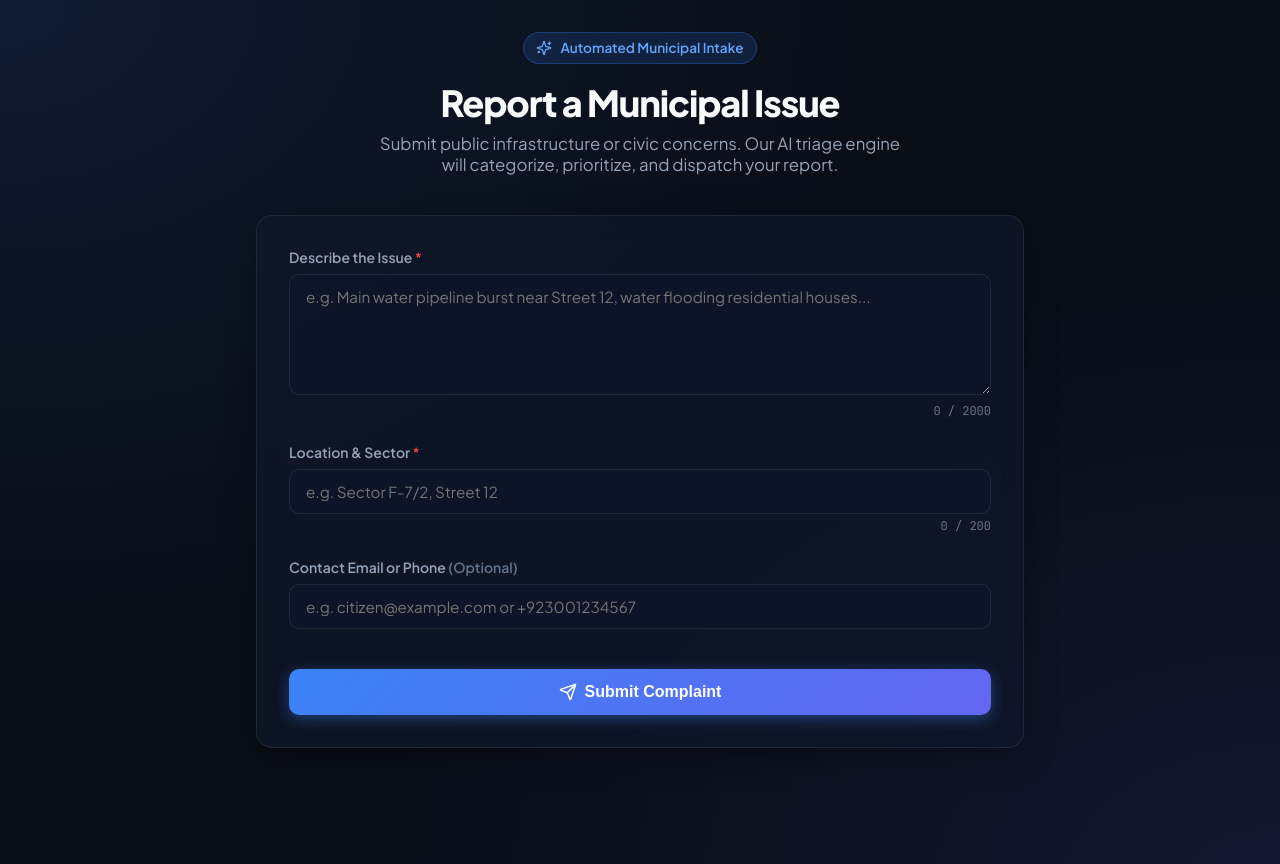
Test: SubmitPage Success & AI Result Presentation › renders triage result card with category, priority, summary, provider, and latency on 201 response
Replace the text in the text box labelled "Describe the Issue *" with "Main water pipeline burst near Street 12 flooding houses." at coordinates (640, 334), box [289,274,991,395]
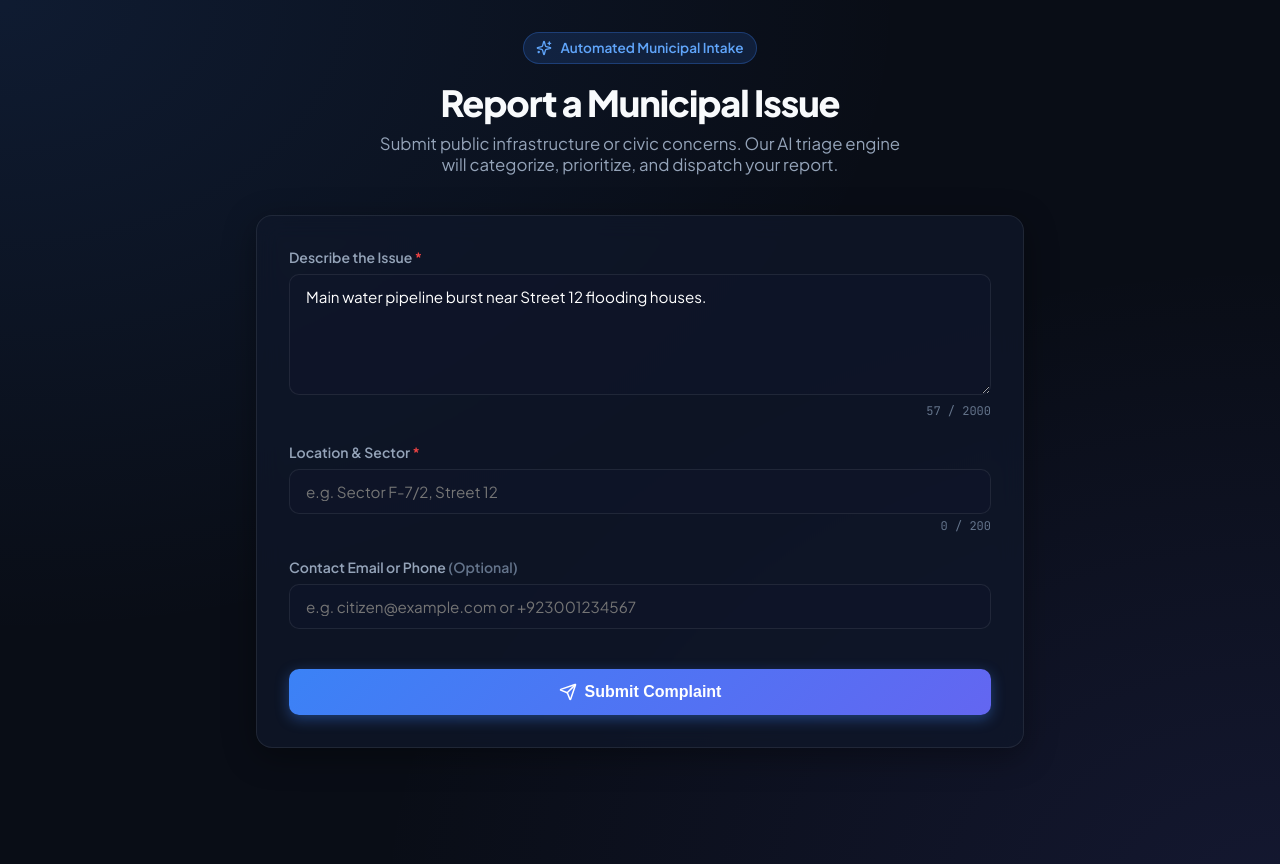
Type "Sector F-7/2" into the field labelled "Location & Sector *" at coordinates (640, 491), box [289,469,991,514]
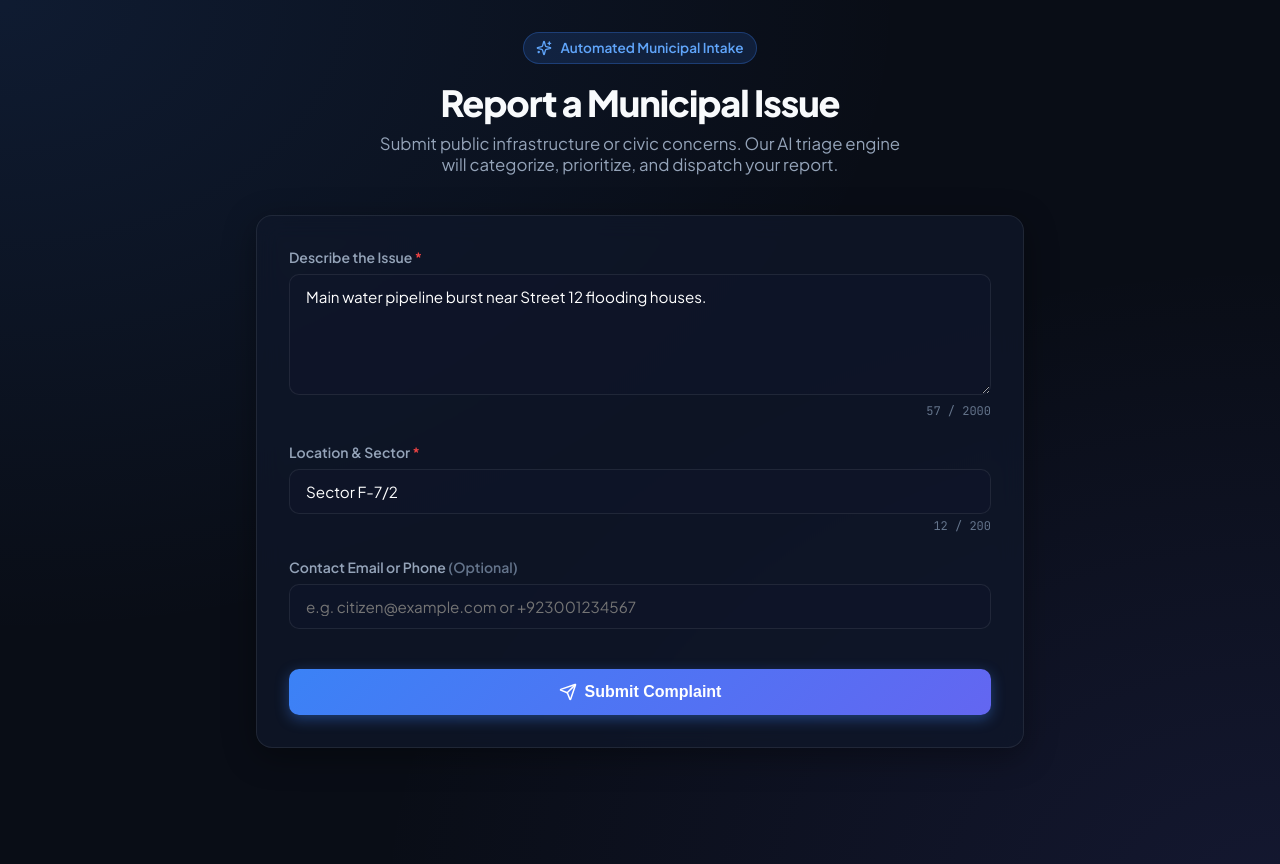
Click the button "Submit Complaint" at coordinates (640, 692), box [289,669,991,715]
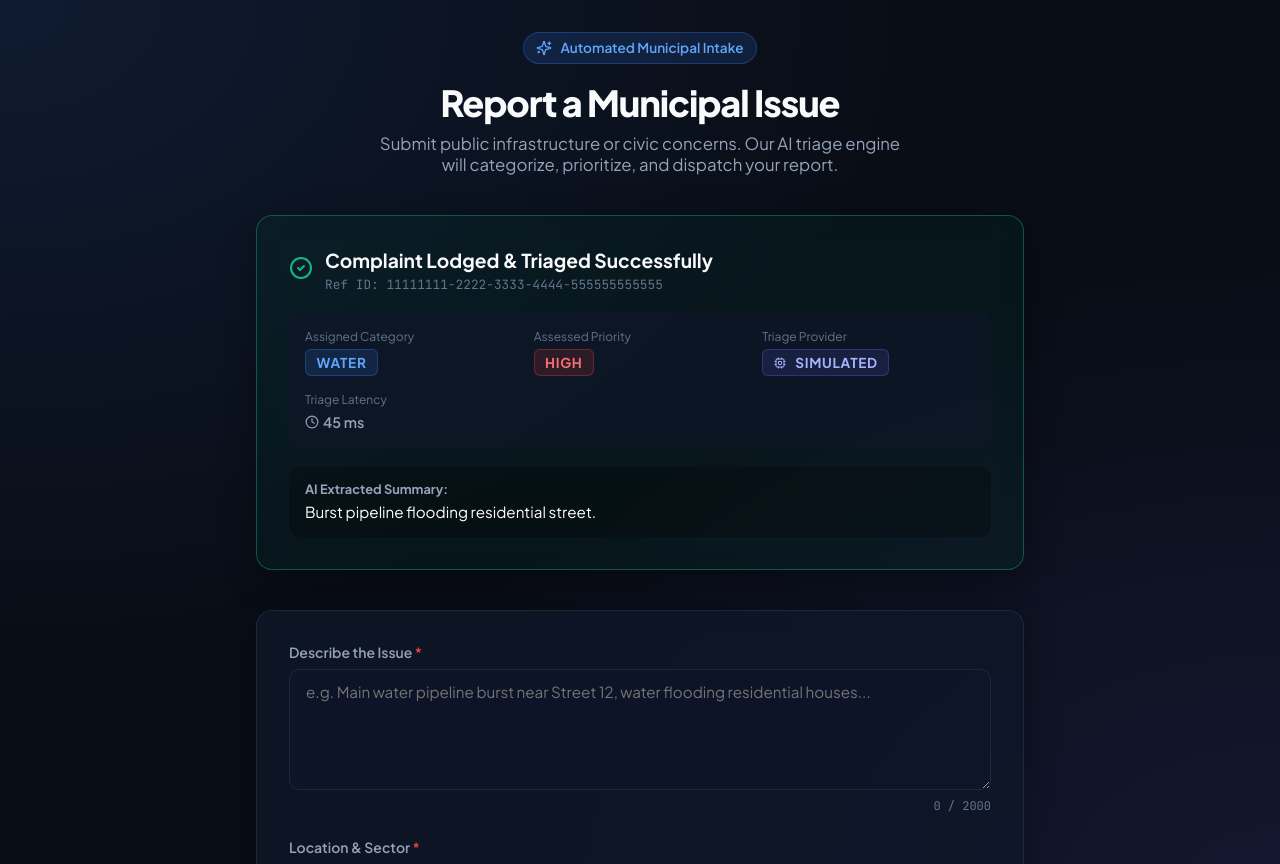
Result: the element with test id "triage-result-card" is shown at [256,215,1024,570]
Result: the heading "Complaint Lodged & Triaged Successfully" is shown at [325,248,713,272]
Result: the text "water" is shown at [305,349,378,376]
